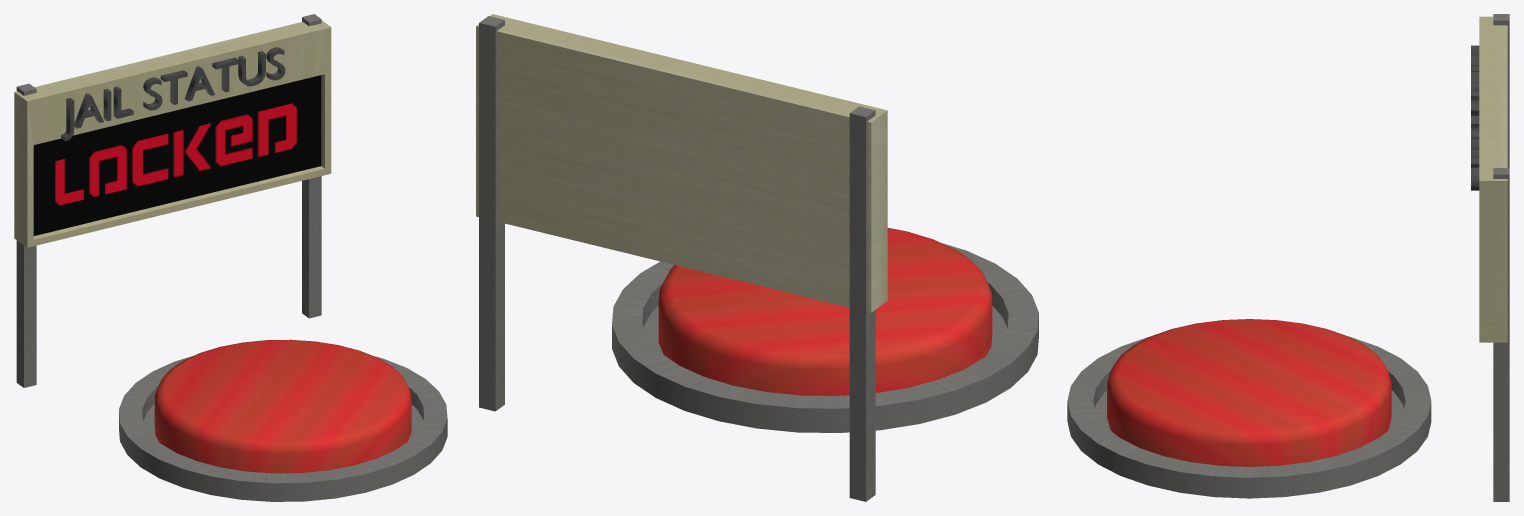
The model's file is JailButton.fbx.
3 views of the same model, side by side, from view 1: azimuth 30°, elevation 25°; view 2: azimuth 150°, elevation 25°; view 3: azimuth 270°, elevation 25° (orthographic). The views are drawn at different scales.
Visible parts, largest first — view 1: StaticMeshes, ButtonUp, LockedSign, Text; view 2: StaticMeshes, ButtonUp; view 3: ButtonUp, StaticMeshes, Text.
Boxes of the visible parts, x1=… form: StaticMeshes: x1=14, y1=14, x2=447, y2=501; ButtonUp: x1=154, y1=339, x2=411, y2=473; LockedSign: x1=33, y1=75, x2=321, y2=235; Text: x1=61, y1=47, x2=285, y2=140; StaticMeshes: x1=476, y1=14, x2=1038, y2=501; ButtonUp: x1=658, y1=228, x2=992, y2=395; ButtonUp: x1=1107, y1=319, x2=1391, y2=466; StaticMeshes: x1=1067, y1=14, x2=1509, y2=501; Text: x1=1471, y1=45, x2=1479, y2=190.
Size of the model in its own units: 752 by 700 by 857.
6 materials, 6 textured.
